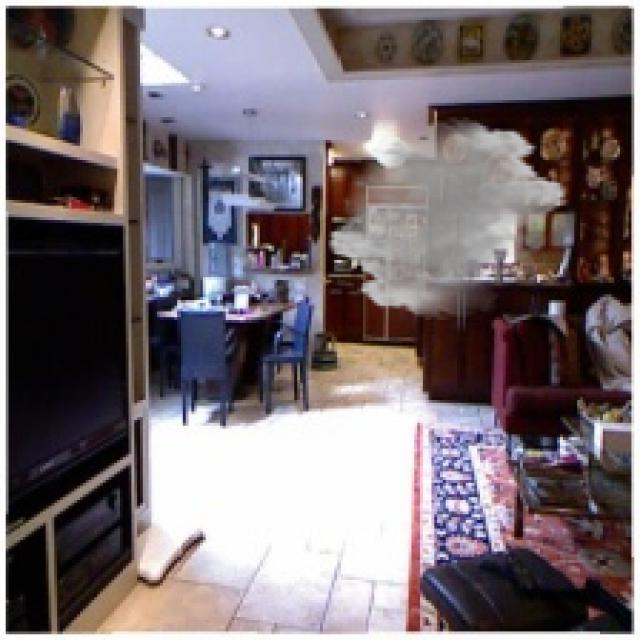smoke: (326, 117, 568, 320)
